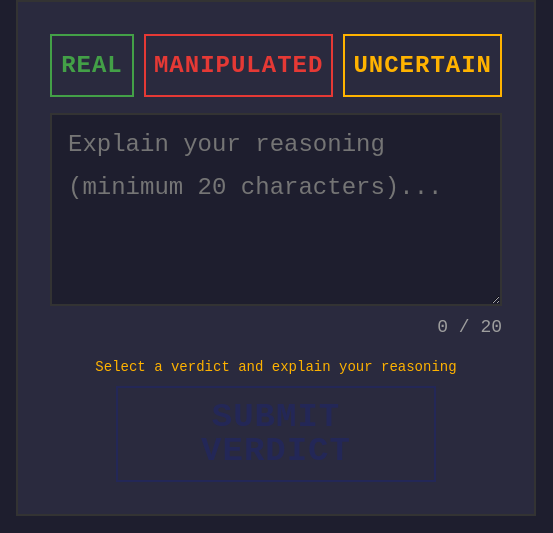
it: VerdictPanel › typing updates character counter in real time
The width and height of the screenshot is (553, 533).
In the text box with test id "verdict-textarea": (276, 209) x1=50 y1=113 x2=502 y2=306, type "hello world"
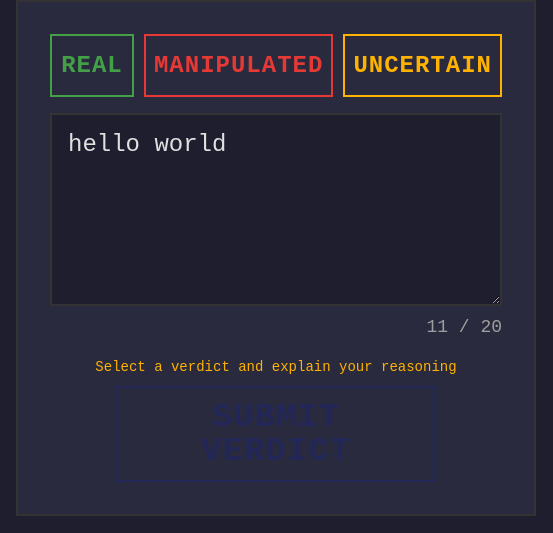
Expected: the text with test id "char-counter" reads "11 / 20", x1=426 y1=314 x2=502 y2=341
